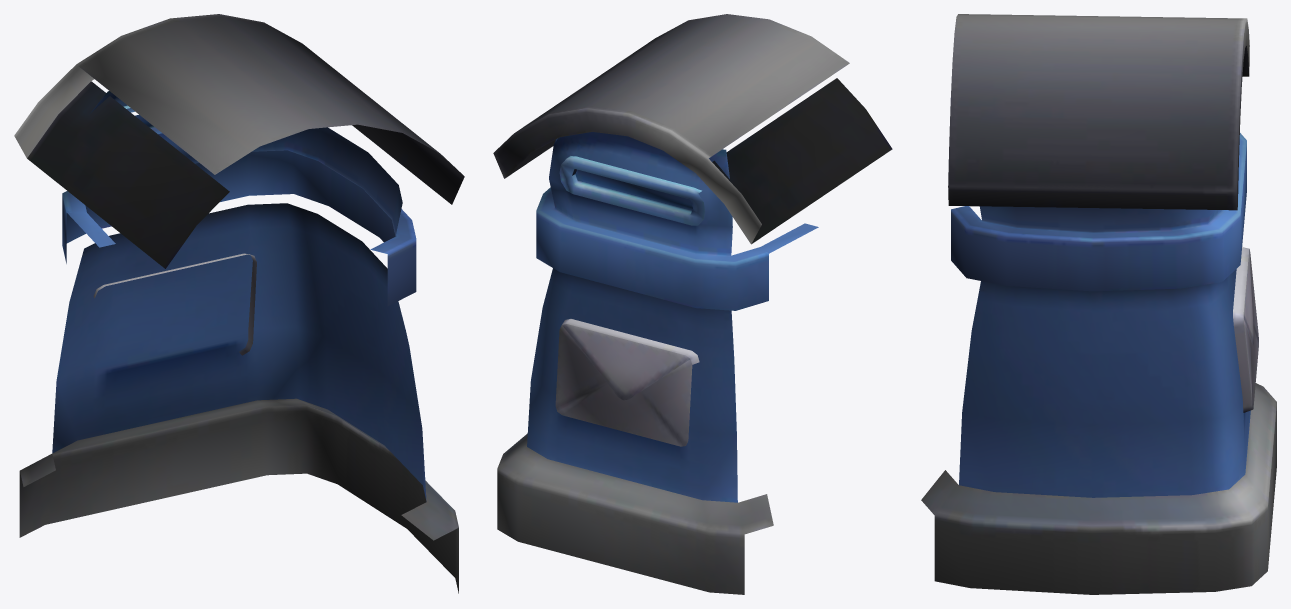
File: DecoMailboxBlue.fbx
3 renders of one model, left to right at view 1: azimuth 30°, elevation 25°; view 2: azimuth 150°, elevation 25°; view 3: azimuth 270°, elevation 25°, orthographic. The views are drawn at different scales.
Visible parts, largest first — view 1: postbox; view 2: postbox; view 3: postbox.
Boxes of the visible parts, x1=… form: postbox: x1=14, y1=14, x2=464, y2=593; postbox: x1=493, y1=14, x2=892, y2=594; postbox: x1=921, y1=14, x2=1276, y2=594.
Size of what is drawn, in the model's own units: 0.5718 by 0.8573 by 0.5746.
1 material, 1 textured.
